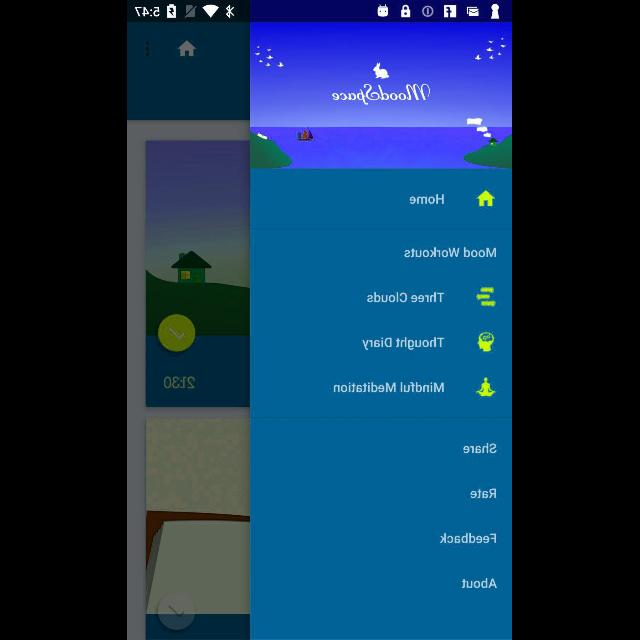icon: (476, 191, 496, 207)
image: (251, 23, 513, 168), (478, 378, 497, 397), (478, 332, 496, 352), (478, 288, 497, 306), (374, 62, 390, 80)
panel: (252, 22, 512, 640)
text: (333, 84, 431, 106), (334, 382, 446, 392), (362, 336, 446, 349), (405, 248, 497, 258), (368, 292, 446, 302), (441, 532, 497, 544), (410, 193, 444, 204), (464, 442, 498, 453), (464, 578, 498, 588), (471, 488, 497, 498)
uppertaskbar: (128, 1, 512, 23)
